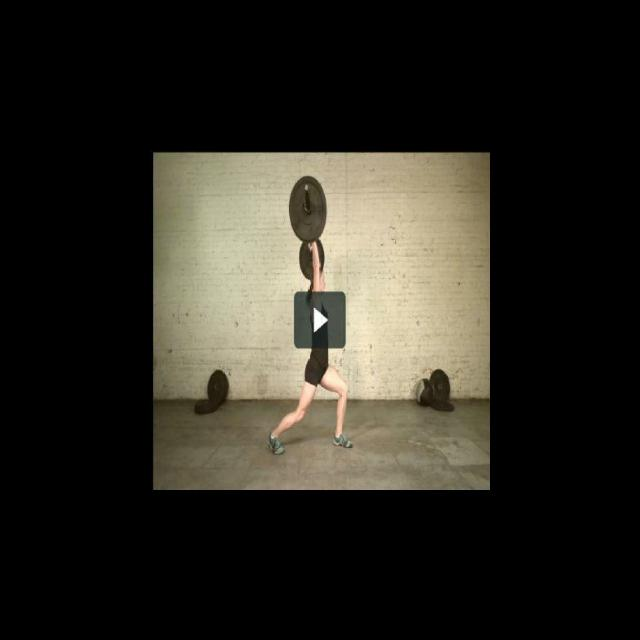barbell: (286, 174, 330, 245)
